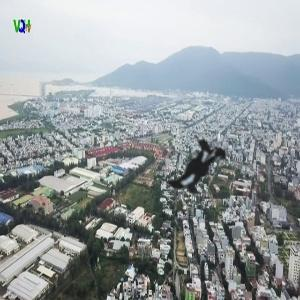drone: (103, 70, 297, 264)
